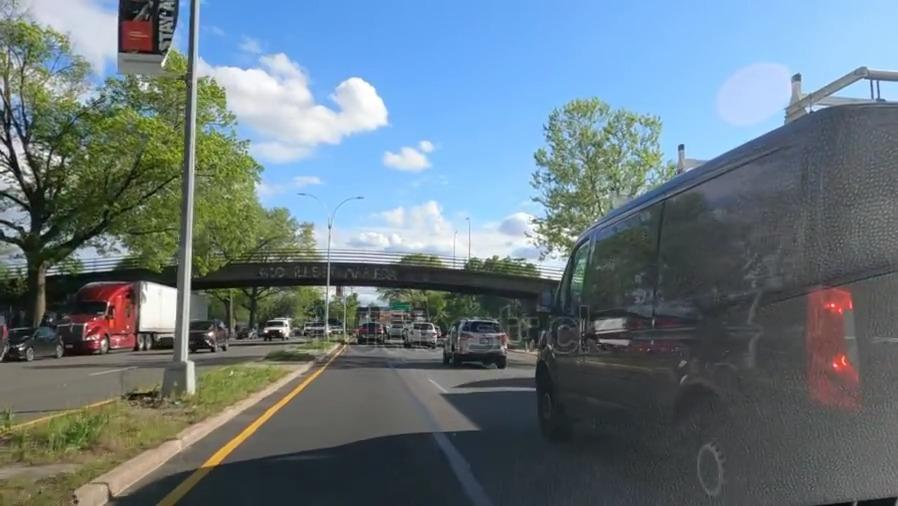car: (444, 317, 515, 366), (12, 323, 65, 361), (191, 316, 237, 352), (408, 320, 439, 348), (359, 321, 387, 345)
truck: (65, 279, 204, 350)
van: (555, 100, 897, 492), (261, 315, 288, 343)
wheel: (672, 393, 744, 506), (531, 365, 568, 436)
